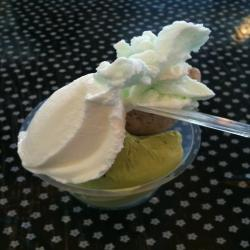icecream: (16, 20, 216, 193)
